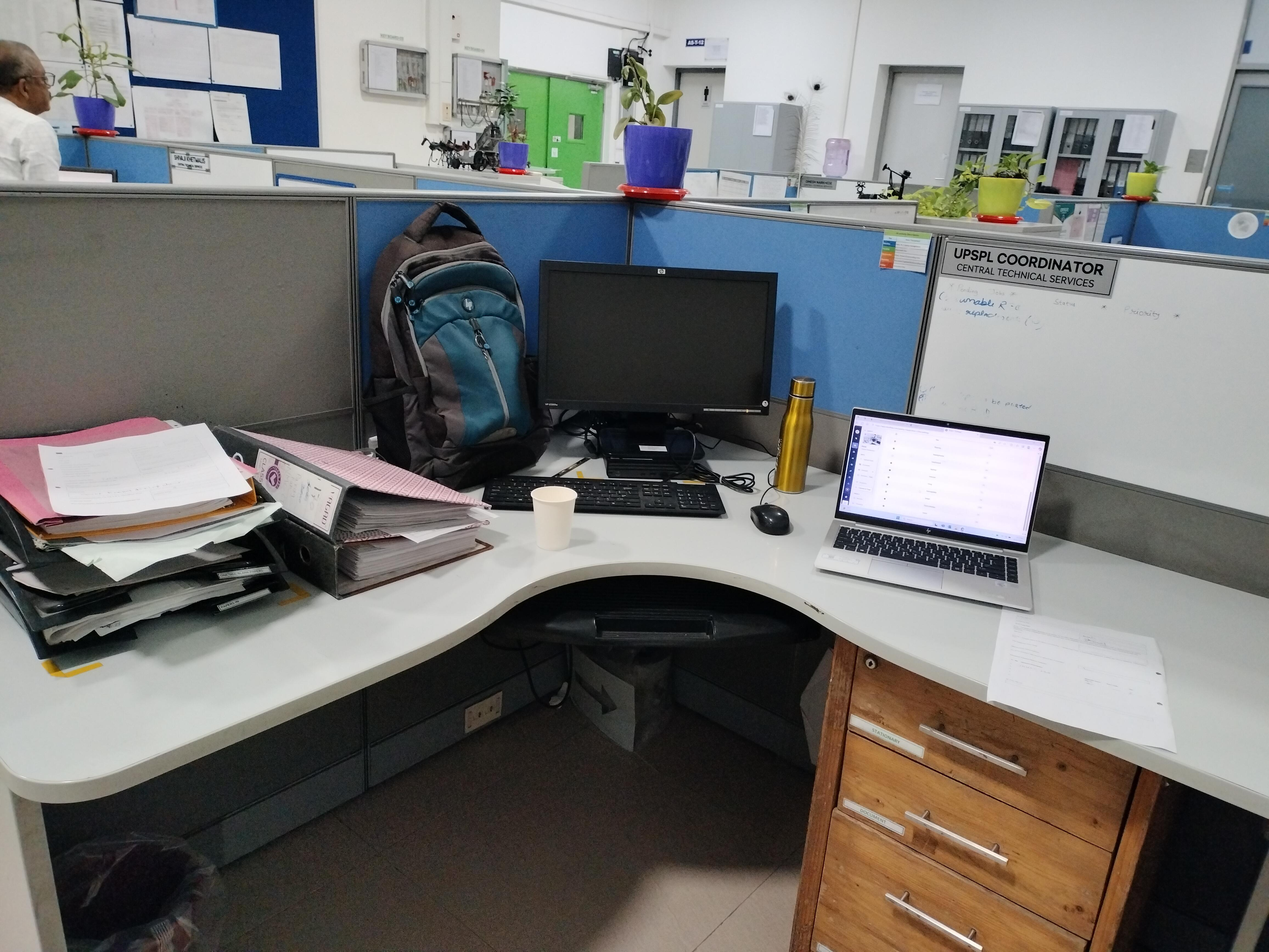StickyNotes: (873, 221, 934, 279)
bag: (354, 199, 533, 468)
bottle: (773, 370, 819, 498)
desktop: (534, 251, 776, 473)
file: (237, 426, 494, 584)
filetray: (0, 419, 267, 655)
keyboard: (478, 469, 730, 525)
laptop: (823, 405, 1040, 616)
mouse: (746, 499, 794, 540)
mug: (529, 484, 578, 554)
nameplate: (936, 231, 1123, 304)
page: (987, 598, 1184, 765)
vase: (609, 123, 702, 208)
